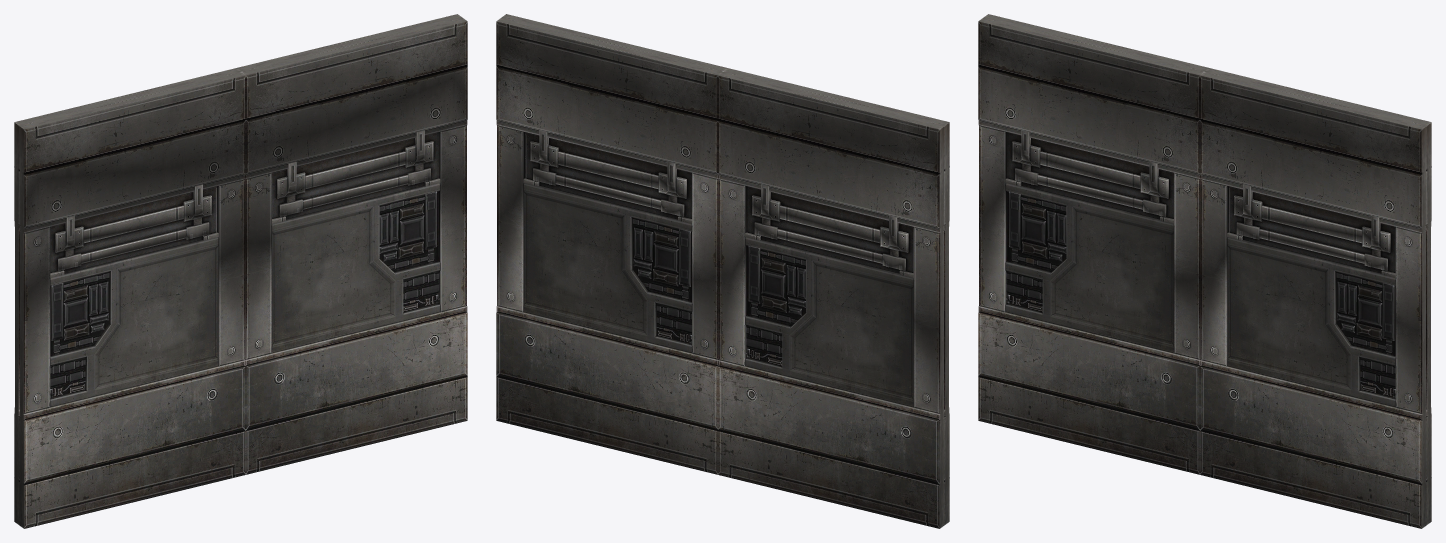
File: slidedoor_theta_elevator.dae
3 renders of one model, left to right at view 1: azimuth 30°, elevation 25°; view 2: azimuth 150°, elevation 25°; view 3: azimuth 330°, elevation 25°, orthographic.
Visible parts, largest first — view 1: door_part_left_front, door_part_right_front, door_part_left_rear, door_part_right_rear; view 2: door_part_left_rear, door_part_right_rear, door_part_left_front, door_part_right_front; view 3: door_part_right_front, door_part_left_front, door_part_right_rear, door_part_left_rear.
Part boxes in pixels (box(x1,y1,x2,y2)): door_part_left_front: box(19, 72, 245, 528); door_part_right_front: box(241, 17, 467, 474); door_part_left_rear: box(14, 68, 240, 524); door_part_right_rear: box(236, 14, 462, 71); door_part_left_rear: box(718, 72, 944, 528); door_part_right_rear: box(496, 17, 722, 474); door_part_left_front: box(723, 68, 949, 524); door_part_right_front: box(501, 14, 727, 71); door_part_right_front: box(1200, 72, 1426, 528); door_part_left_front: box(978, 17, 1204, 474); door_part_right_rear: box(1205, 68, 1431, 524); door_part_left_rear: box(984, 14, 1209, 71).
Bounding box in the file's own units: 3.49 × 3 × 0.1377.
